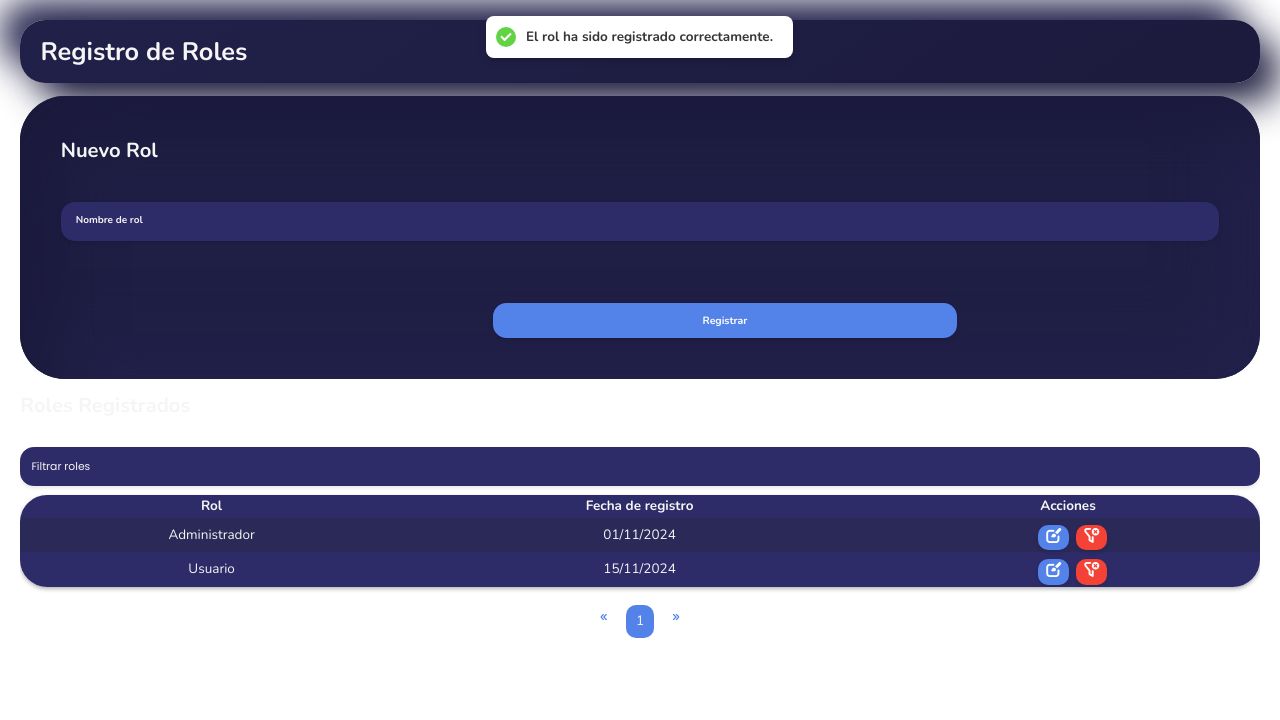
Scenario: Prueba del componente frmRol › Realiza una pruba del filtro
The width and height of the screenshot is (1280, 720).
Type "Admin" into the field with placeholder "Filtrar roles" at (640, 467), box [20,447,1260,486]
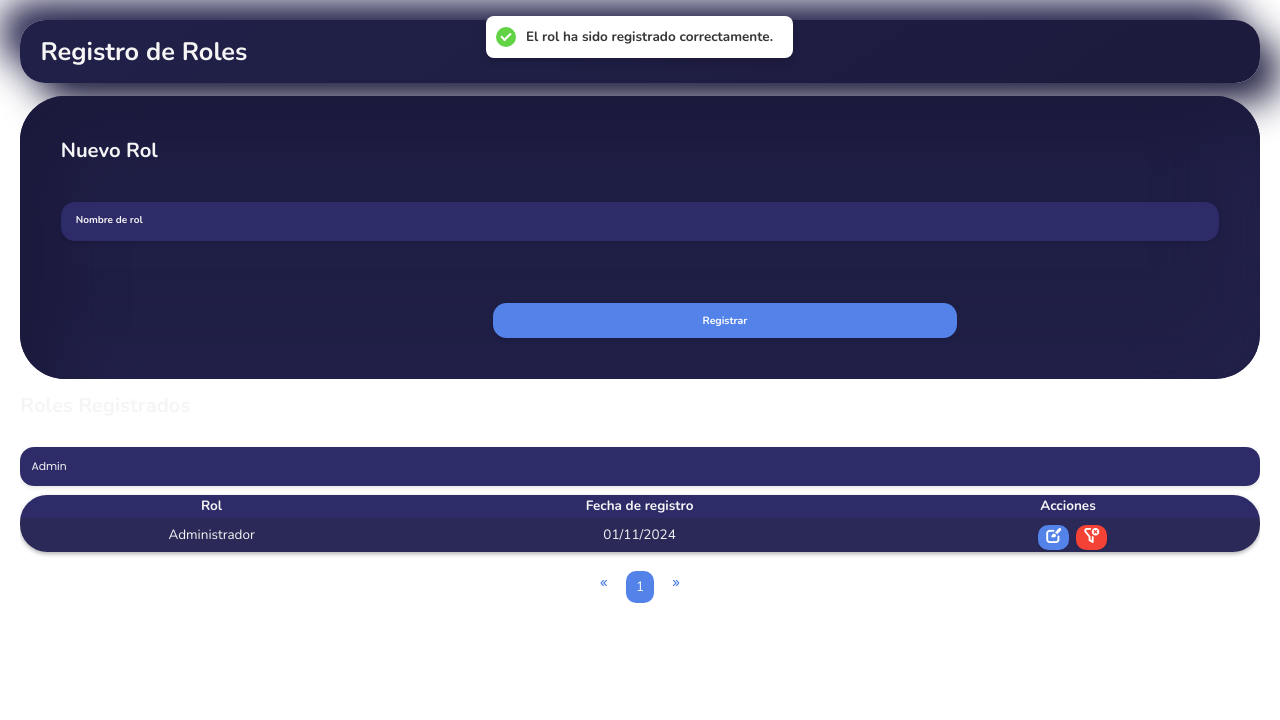
Expected: the number of rows is 2, [20,495,1260,518]; [20,518,1260,552]
